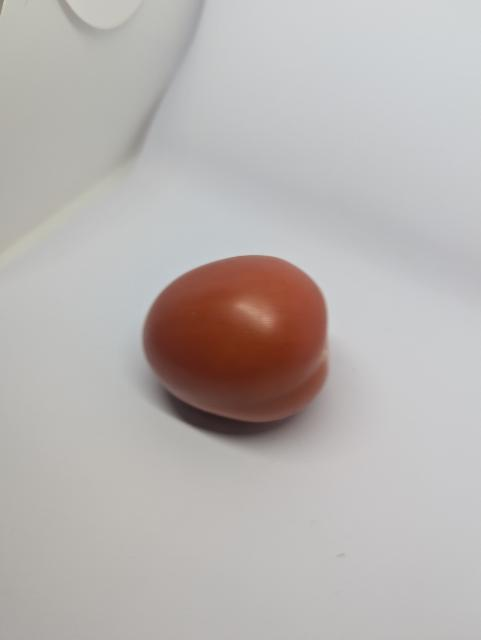red: (116, 221, 356, 461)
